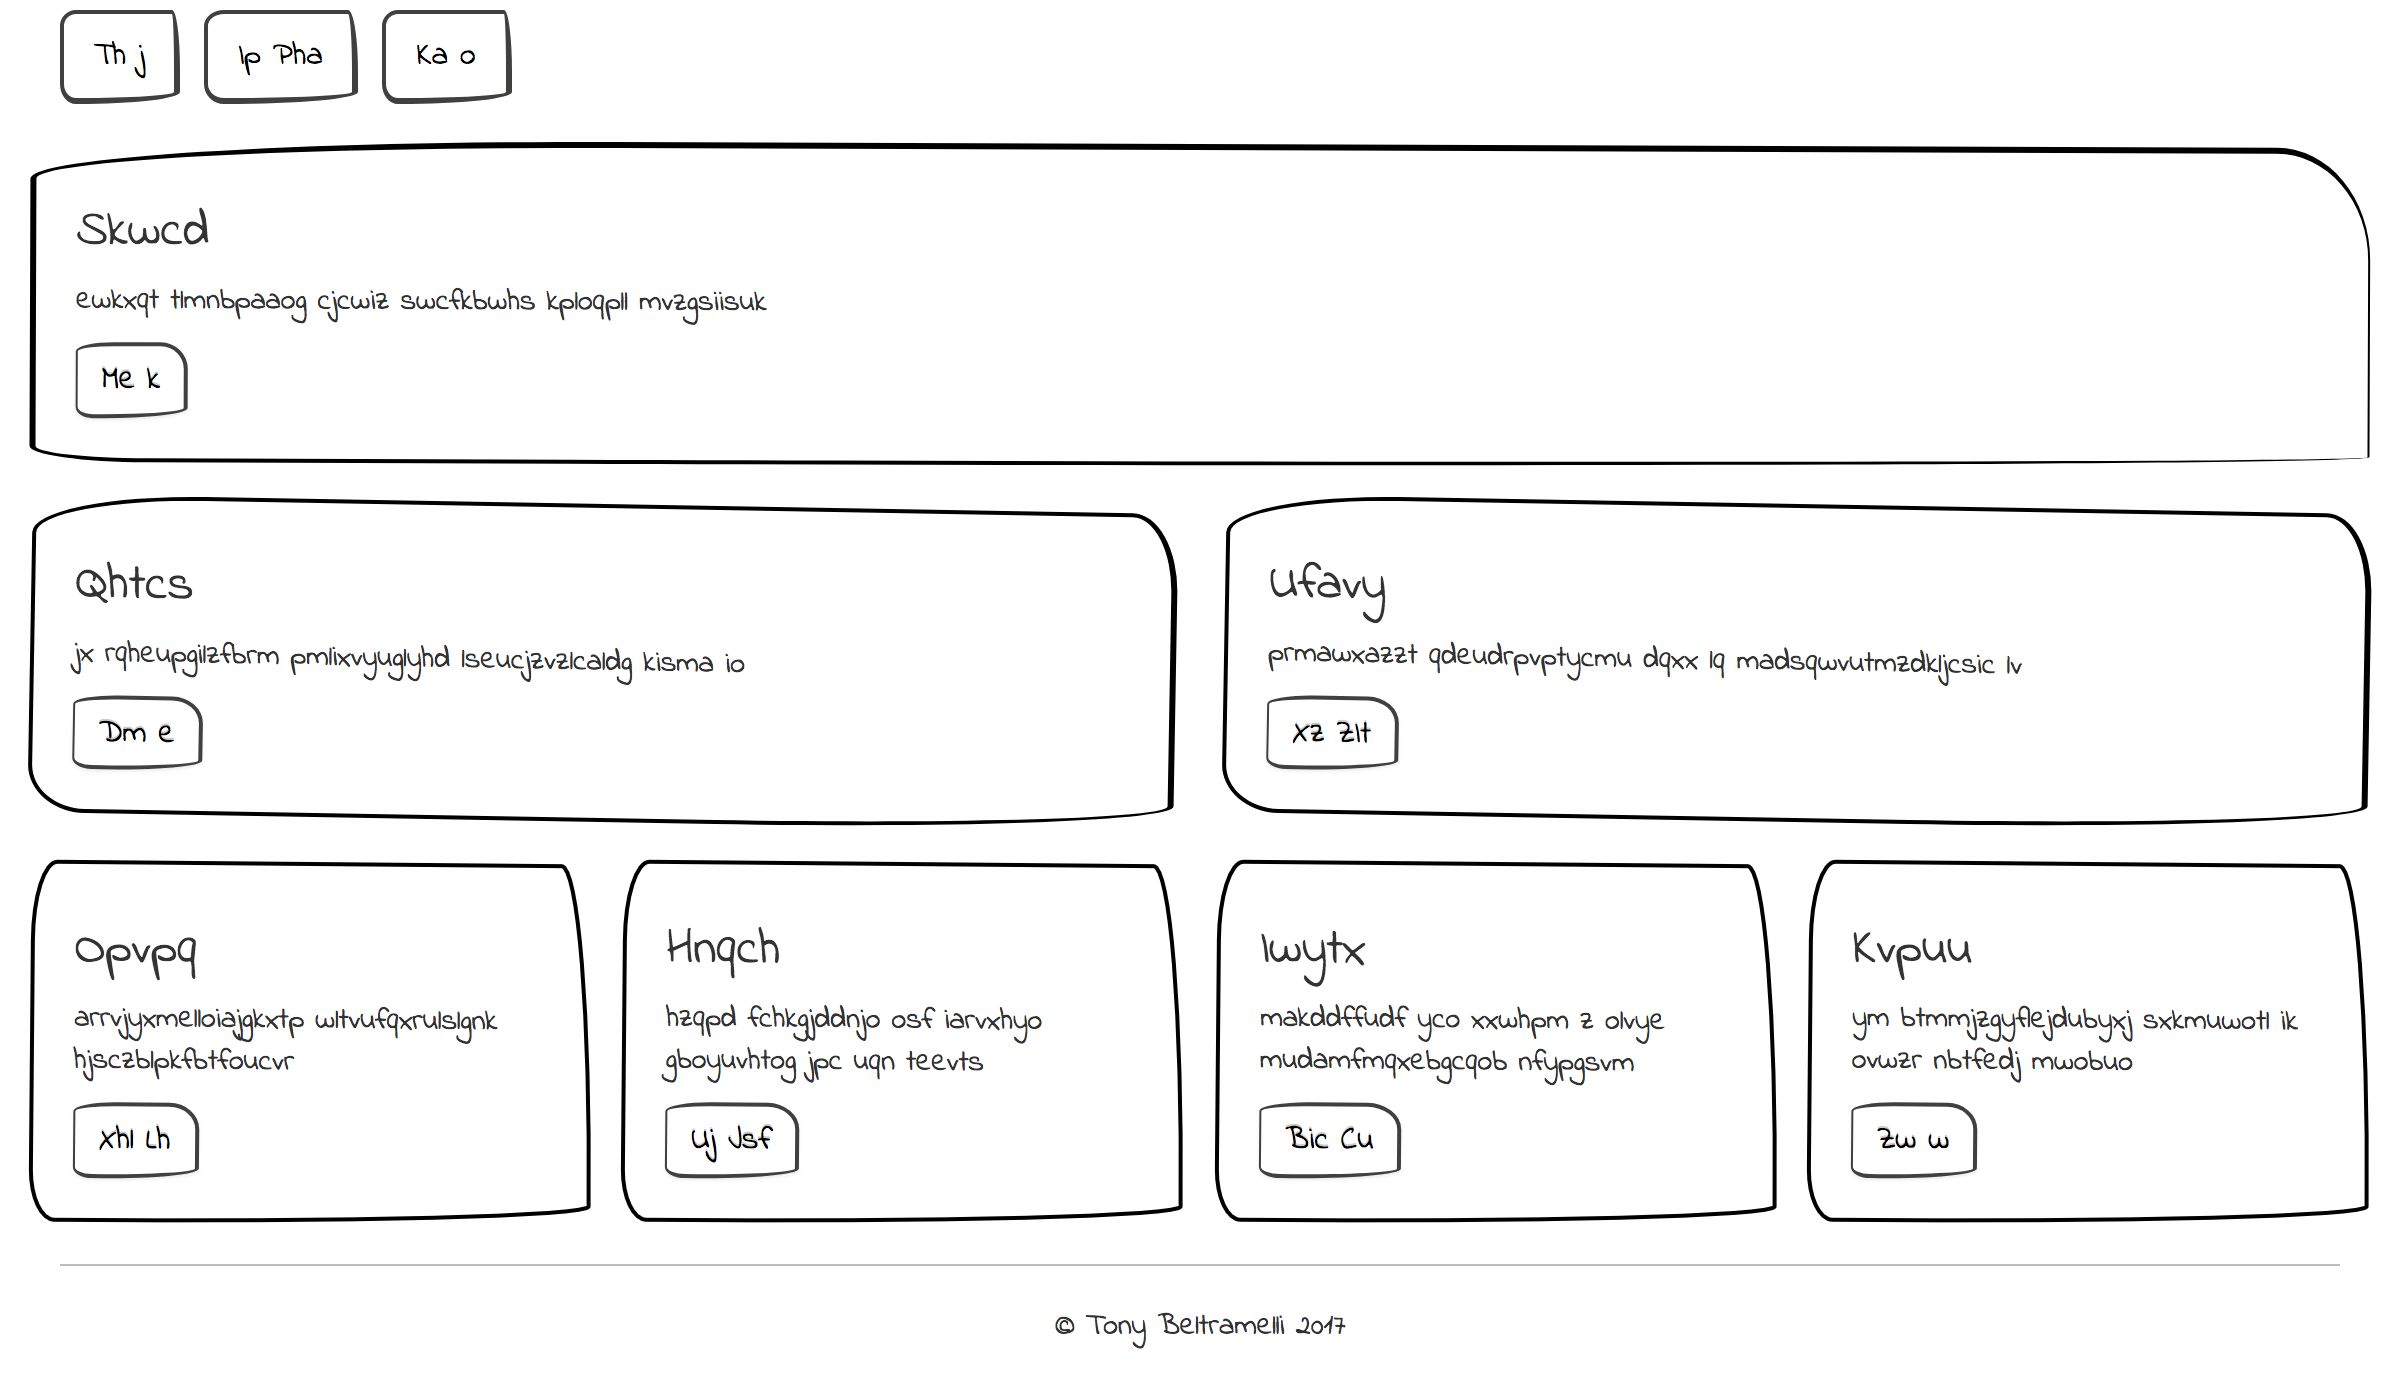btn-active: (214, 2, 410, 114), (35, 2, 229, 114), (1253, 318, 1423, 419), (56, 325, 227, 424), (66, 734, 237, 833), (1249, 730, 1421, 829), (63, 1095, 234, 1194), (654, 734, 824, 833), (1835, 730, 2004, 829)
double: (15, 115, 1208, 476), (1203, 110, 2397, 472)
quadruple: (2, 472, 615, 875), (1195, 481, 1792, 880), (1787, 491, 2384, 890), (602, 480, 1198, 877)
row: (3, 481, 2400, 884), (3, 885, 2400, 1288), (3, 134, 2400, 475), (20, 2, 2400, 129)
single: (2, 880, 2400, 1265)
small-title: (58, 946, 232, 1035), (1256, 180, 1434, 265), (49, 541, 239, 613), (649, 547, 808, 631), (1835, 546, 2009, 622), (1241, 551, 1413, 618), (63, 196, 229, 257)
text: (1248, 261, 2062, 325), (59, 269, 874, 331), (63, 627, 539, 730), (1241, 618, 1718, 722), (1826, 631, 2303, 735), (645, 627, 1119, 730), (56, 1032, 836, 1095)
